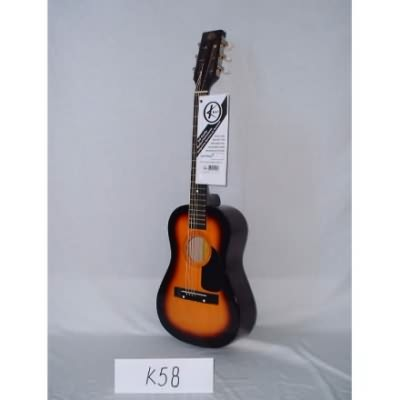guitar: (156, 30, 257, 349)
